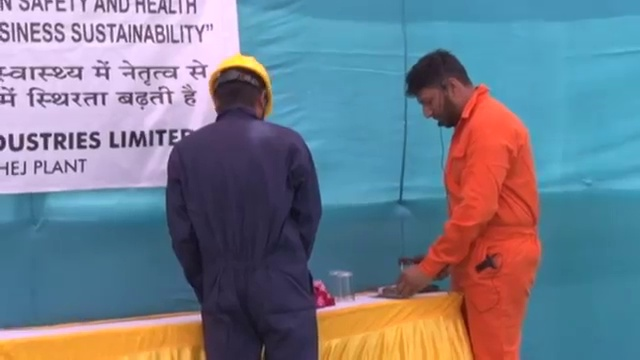helmet: (207, 54, 272, 114)
helmet_off: (401, 48, 480, 131)
helmet_on: (206, 52, 274, 124)
person: (162, 51, 322, 358), (395, 48, 542, 360)
